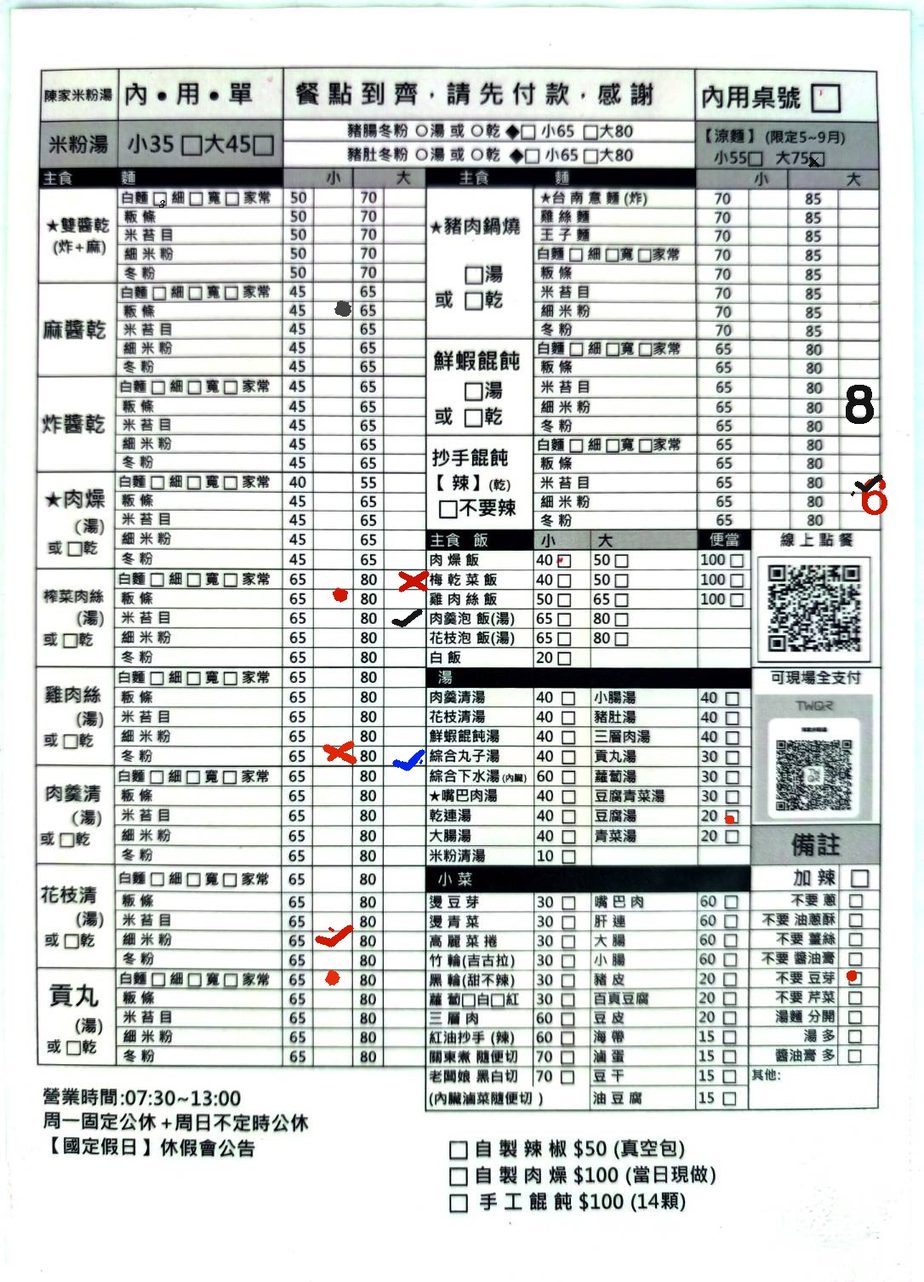marked_circle: (314, 588, 351, 608), (314, 300, 351, 320), (314, 970, 351, 989), (727, 810, 738, 822), (849, 973, 860, 985)
marked_number_3: (155, 192, 166, 204)
marked_number_6: (841, 493, 878, 512)
marked_number_8: (840, 399, 877, 419)
marked_tick: (313, 930, 351, 950), (841, 472, 878, 492), (386, 610, 424, 629), (384, 745, 421, 764)
marked_x: (385, 568, 423, 587), (313, 746, 351, 765), (812, 153, 823, 165)
